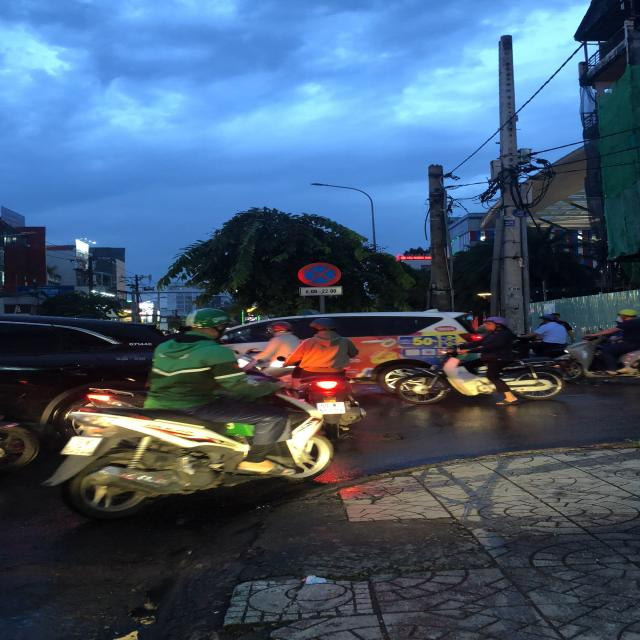Bien bao cam dung xe va do xe: (293, 260, 346, 288)
